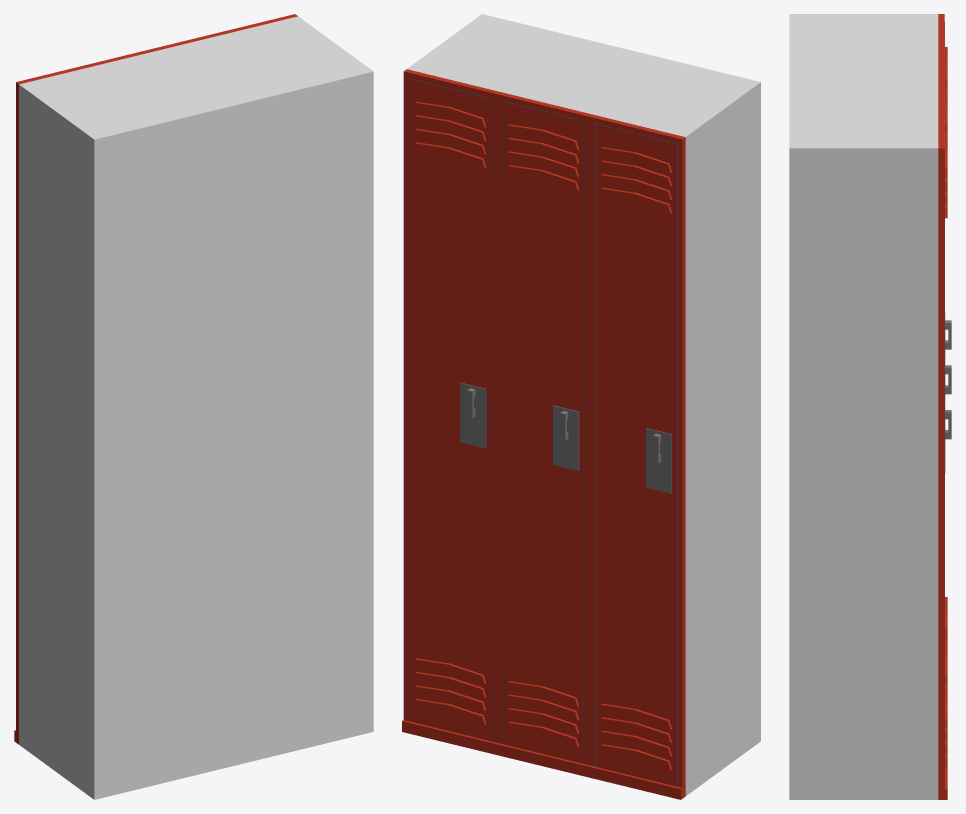
Rendered from locker_a.fbx.
The picture shows the model from 3 angles, left to right: view 1: azimuth 30°, elevation 25°; view 2: azimuth 150°, elevation 25°; view 3: azimuth 270°, elevation 25°; orthographic projection.
Visible parts, largest first — view 1: Cube, 30:1, 43:1; view 2: Cube, 30:1, 16:1, 2:1, 44:1, 1:1, 29:1, 15:1, 4:1, 18:1, 32:1, 43:1 (+24 smaller); view 3: Cube, 2:1, 43:1, 1:1, 16:1.
Part boxes in pixels (box(x1,y1,x2,y2)): Cube: box(19, 16, 373, 799); 30:1: box(16, 59, 111, 733); 43:1: box(16, 14, 297, 84); Cube: box(407, 14, 760, 795); 30:1: box(589, 115, 685, 787); 16:1: box(496, 92, 591, 765); 2:1: box(403, 70, 498, 742); 44:1: box(402, 720, 685, 799); 1:1: box(408, 78, 491, 741); 29:1: box(594, 123, 677, 786); 15:1: box(501, 101, 584, 763); 4:1: box(460, 382, 486, 448); 18:1: box(553, 405, 579, 471); 32:1: box(646, 428, 671, 493); 43:1: box(404, 69, 685, 139); Cube: box(789, 14, 938, 799); 2:1: box(938, 103, 944, 789); 43:1: box(938, 14, 944, 148); 1:1: box(944, 111, 944, 786); 16:1: box(938, 58, 944, 103).
Bounding box in the file's own units: 68.58 × 155 × 34.94.
